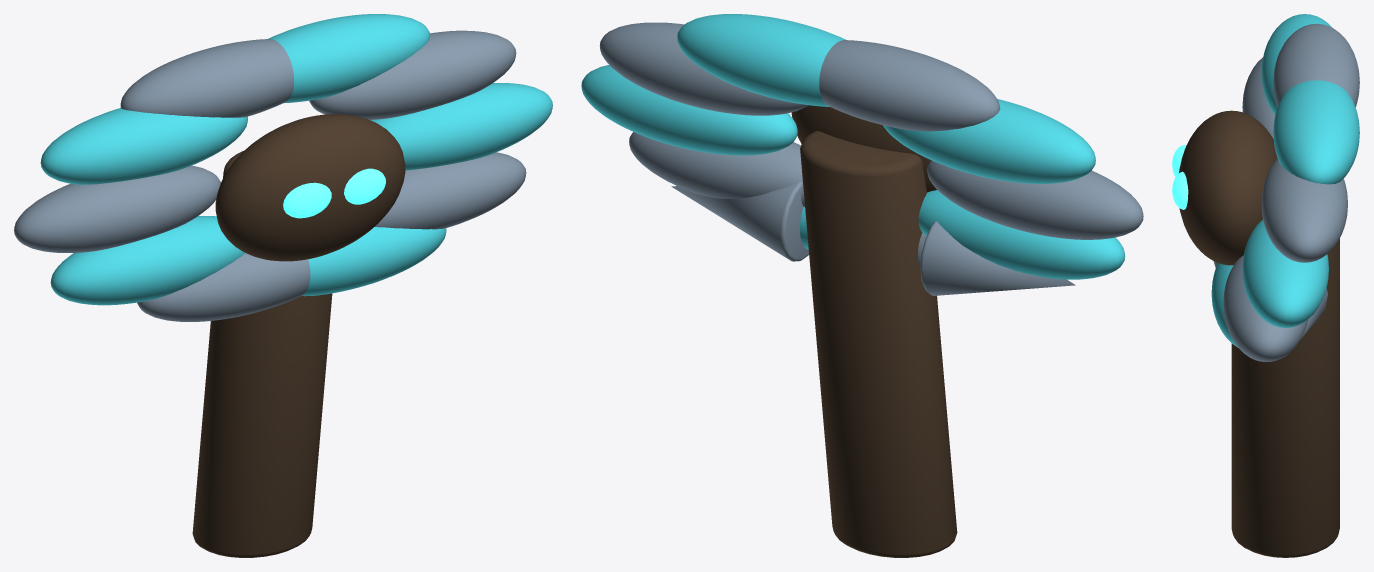
Rendered from plant_v5.glb.
The picture shows the model from 3 angles, left to right: view 1: azimuth 30°, elevation 25°; view 2: azimuth 150°, elevation 25°; view 3: azimuth 270°, elevation 25°; orthographic projection. The views are drawn at different scales.
Parts seen in each view (by area): view 1: FLOWER_STEM_SECONDARY, FLOWER_MAW_SECONDARY, FLOWER_PETAL_PRIMARY.002, FLOWER_PETAL_ACCENT.002, FLOWER_PETAL_ACCENT.003, FLOWER_PETAL_PRIMARY.001, FLOWER_PETAL_PRIMARY, FLOWER_PETAL_ACCENT, FLOWER_PETAL_ACCENT.001, FLOWER_PETAL_PRIMARY.004, FLOWER_PETAL_PRIMARY.003, FLOWER_PETAL_ACCENT.004 (+2 smaller); view 2: FLOWER_STEM_SECONDARY, FLOWER_PETAL_PRIMARY.001, FLOWER_PETAL_ACCENT.001, FLOWER_PETAL_PRIMARY.002, FLOWER_PETAL_ACCENT.002, FLOWER_PETAL_ACCENT, FLOWER_PETAL_PRIMARY, FLOWER_PETAL_ACCENT.003, FLOWER_PETAL_PRIMARY.004, SHOULDER_TUSK_PRIMARY, SHOULDER_TUSK_PRIMARY.001, FLOWER_MAW_SECONDARY; view 3: FLOWER_STEM_SECONDARY, FLOWER_MAW_SECONDARY, FLOWER_PETAL_ACCENT.001, FLOWER_PETAL_PRIMARY, FLOWER_PETAL_ACCENT, FLOWER_PETAL_PRIMARY.001, FLOWER_PETAL_PRIMARY.004, FLOWER_PETAL_ACCENT.002, FLOWER_PETAL_PRIMARY.002, FLOWER_PETAL_ACCENT.004, EYE_EMISSIVE.001, SHOULDER_TUSK_PRIMARY.001 (+1 smaller).
Part boxes in pixels (box(x1,y1,x2,y2)): FLOWER_STEM_SECONDARY: box(192, 151, 332, 557); FLOWER_MAW_SECONDARY: box(215, 114, 405, 261); FLOWER_PETAL_PRIMARY.002: box(14, 165, 220, 252); FLOWER_PETAL_ACCENT.002: box(40, 108, 247, 184); FLOWER_PETAL_ACCENT.003: box(50, 216, 245, 305); FLOWER_PETAL_PRIMARY.001: box(120, 39, 293, 117); FLOWER_PETAL_PRIMARY: box(309, 30, 516, 119); FLOWER_PETAL_ACCENT: box(370, 83, 552, 170); FLOWER_PETAL_ACCENT.001: box(268, 14, 430, 103); FLOWER_PETAL_PRIMARY.004: box(374, 152, 526, 229); FLOWER_PETAL_PRIMARY.003: box(137, 253, 310, 321); FLOWER_PETAL_ACCENT.004: box(302, 227, 446, 296); FLOWER_STEM_SECONDARY: box(800, 130, 957, 557); FLOWER_PETAL_PRIMARY.001: box(819, 40, 1000, 131); FLOWER_PETAL_ACCENT.001: box(677, 14, 845, 106); FLOWER_PETAL_PRIMARY.002: box(927, 160, 1143, 239); FLOWER_PETAL_ACCENT.002: box(883, 99, 1095, 183); FLOWER_PETAL_ACCENT: box(581, 65, 797, 155); FLOWER_PETAL_PRIMARY: box(599, 22, 808, 115); FLOWER_PETAL_ACCENT.003: box(918, 190, 1125, 279); FLOWER_PETAL_PRIMARY.004: box(629, 132, 804, 206); SHOULDER_TUSK_PRIMARY: box(920, 221, 1075, 295); SHOULDER_TUSK_PRIMARY.001: box(671, 182, 808, 261); FLOWER_MAW_SECONDARY: box(791, 105, 936, 192); FLOWER_STEM_SECONDARY: box(1231, 238, 1339, 557); FLOWER_MAW_SECONDARY: box(1179, 110, 1277, 265); FLOWER_PETAL_ACCENT.001: box(1273, 80, 1359, 184); FLOWER_PETAL_PRIMARY: box(1261, 158, 1347, 262); FLOWER_PETAL_ACCENT: box(1242, 219, 1328, 327); FLOWER_PETAL_PRIMARY.001: box(1273, 23, 1359, 107); FLOWER_PETAL_PRIMARY.004: box(1223, 255, 1307, 361); FLOWER_PETAL_ACCENT.002: box(1261, 14, 1332, 115); FLOWER_PETAL_PRIMARY.002: box(1242, 57, 1274, 138); FLOWER_PETAL_ACCENT.004: box(1211, 263, 1237, 347); EYE_EMISSIVE.001: box(1172, 171, 1188, 209); SHOULDER_TUSK_PRIMARY.001: box(1285, 288, 1327, 356).
Bounding box in the file's own units: 2.56 × 2.19 × 0.7774.
